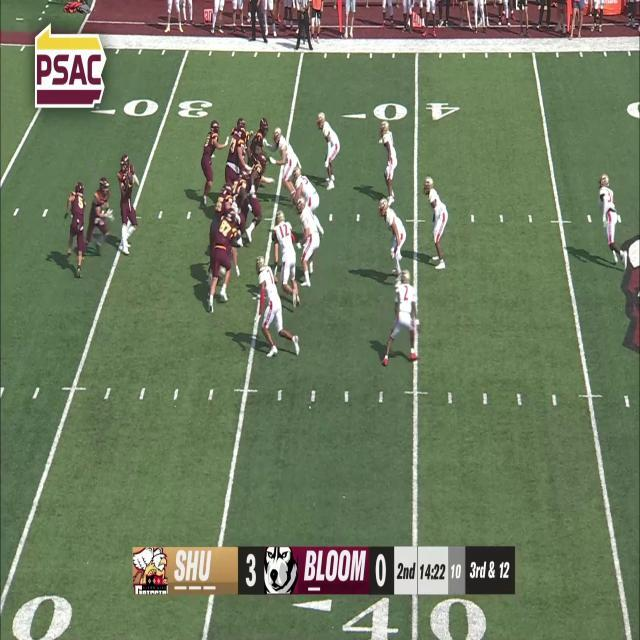football: (126, 172, 134, 186)
